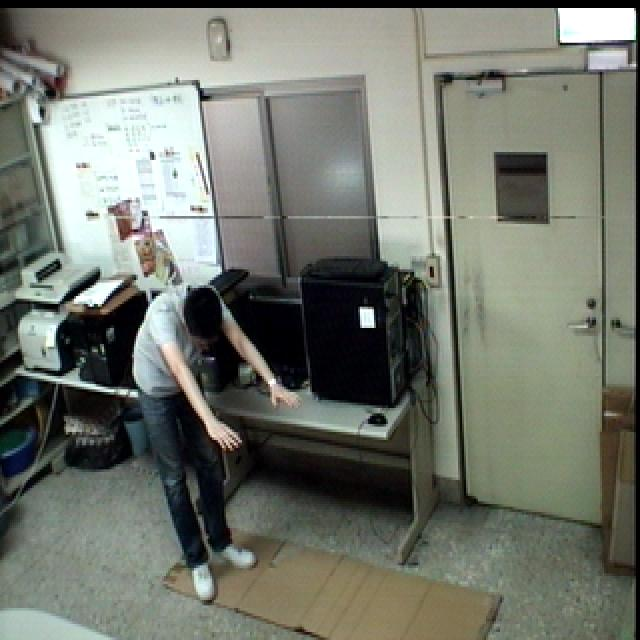bend: (129, 281, 310, 608)
